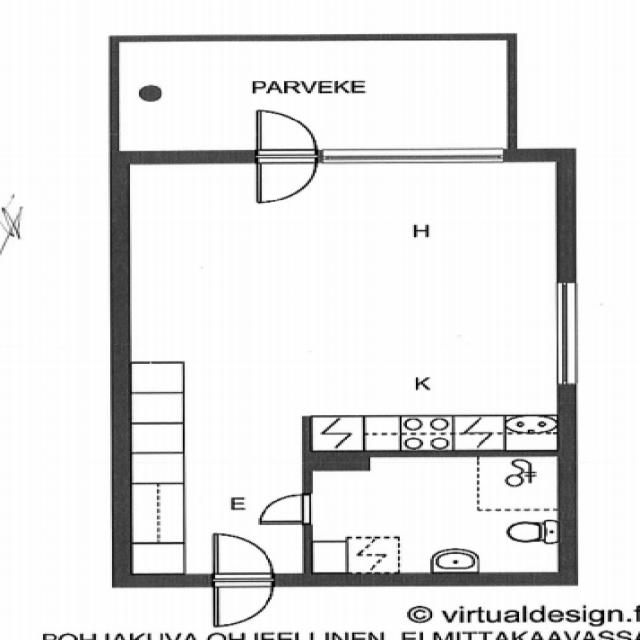door: (247, 106, 320, 205), (205, 529, 276, 629), (247, 490, 326, 530)
window: (546, 277, 587, 390), (321, 147, 513, 166)
zone: (122, 154, 565, 452), (302, 454, 569, 579), (124, 452, 304, 578)
